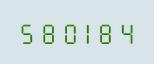eight: (37, 20, 56, 44), (98, 20, 117, 44)
five: (17, 20, 36, 44)
four: (118, 20, 137, 44)
one: (78, 20, 97, 44)
zero: (58, 20, 77, 44)
